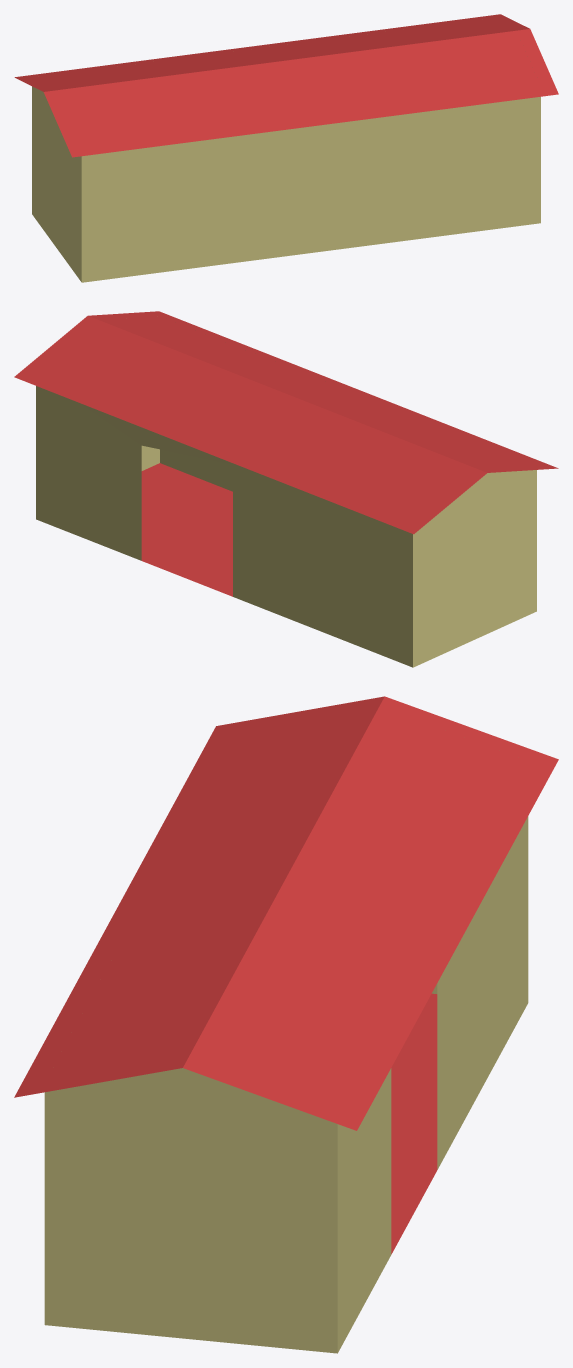
3 views of the same model, one above another, from view 1: azimuth 30°, elevation 25°; view 2: azimuth 150°, elevation 25°; view 3: azimuth 270°, elevation 25° (orthographic). The views are drawn at different scales.
Size of the model in its own units: 28.12 by 15.99 by 9.12.
